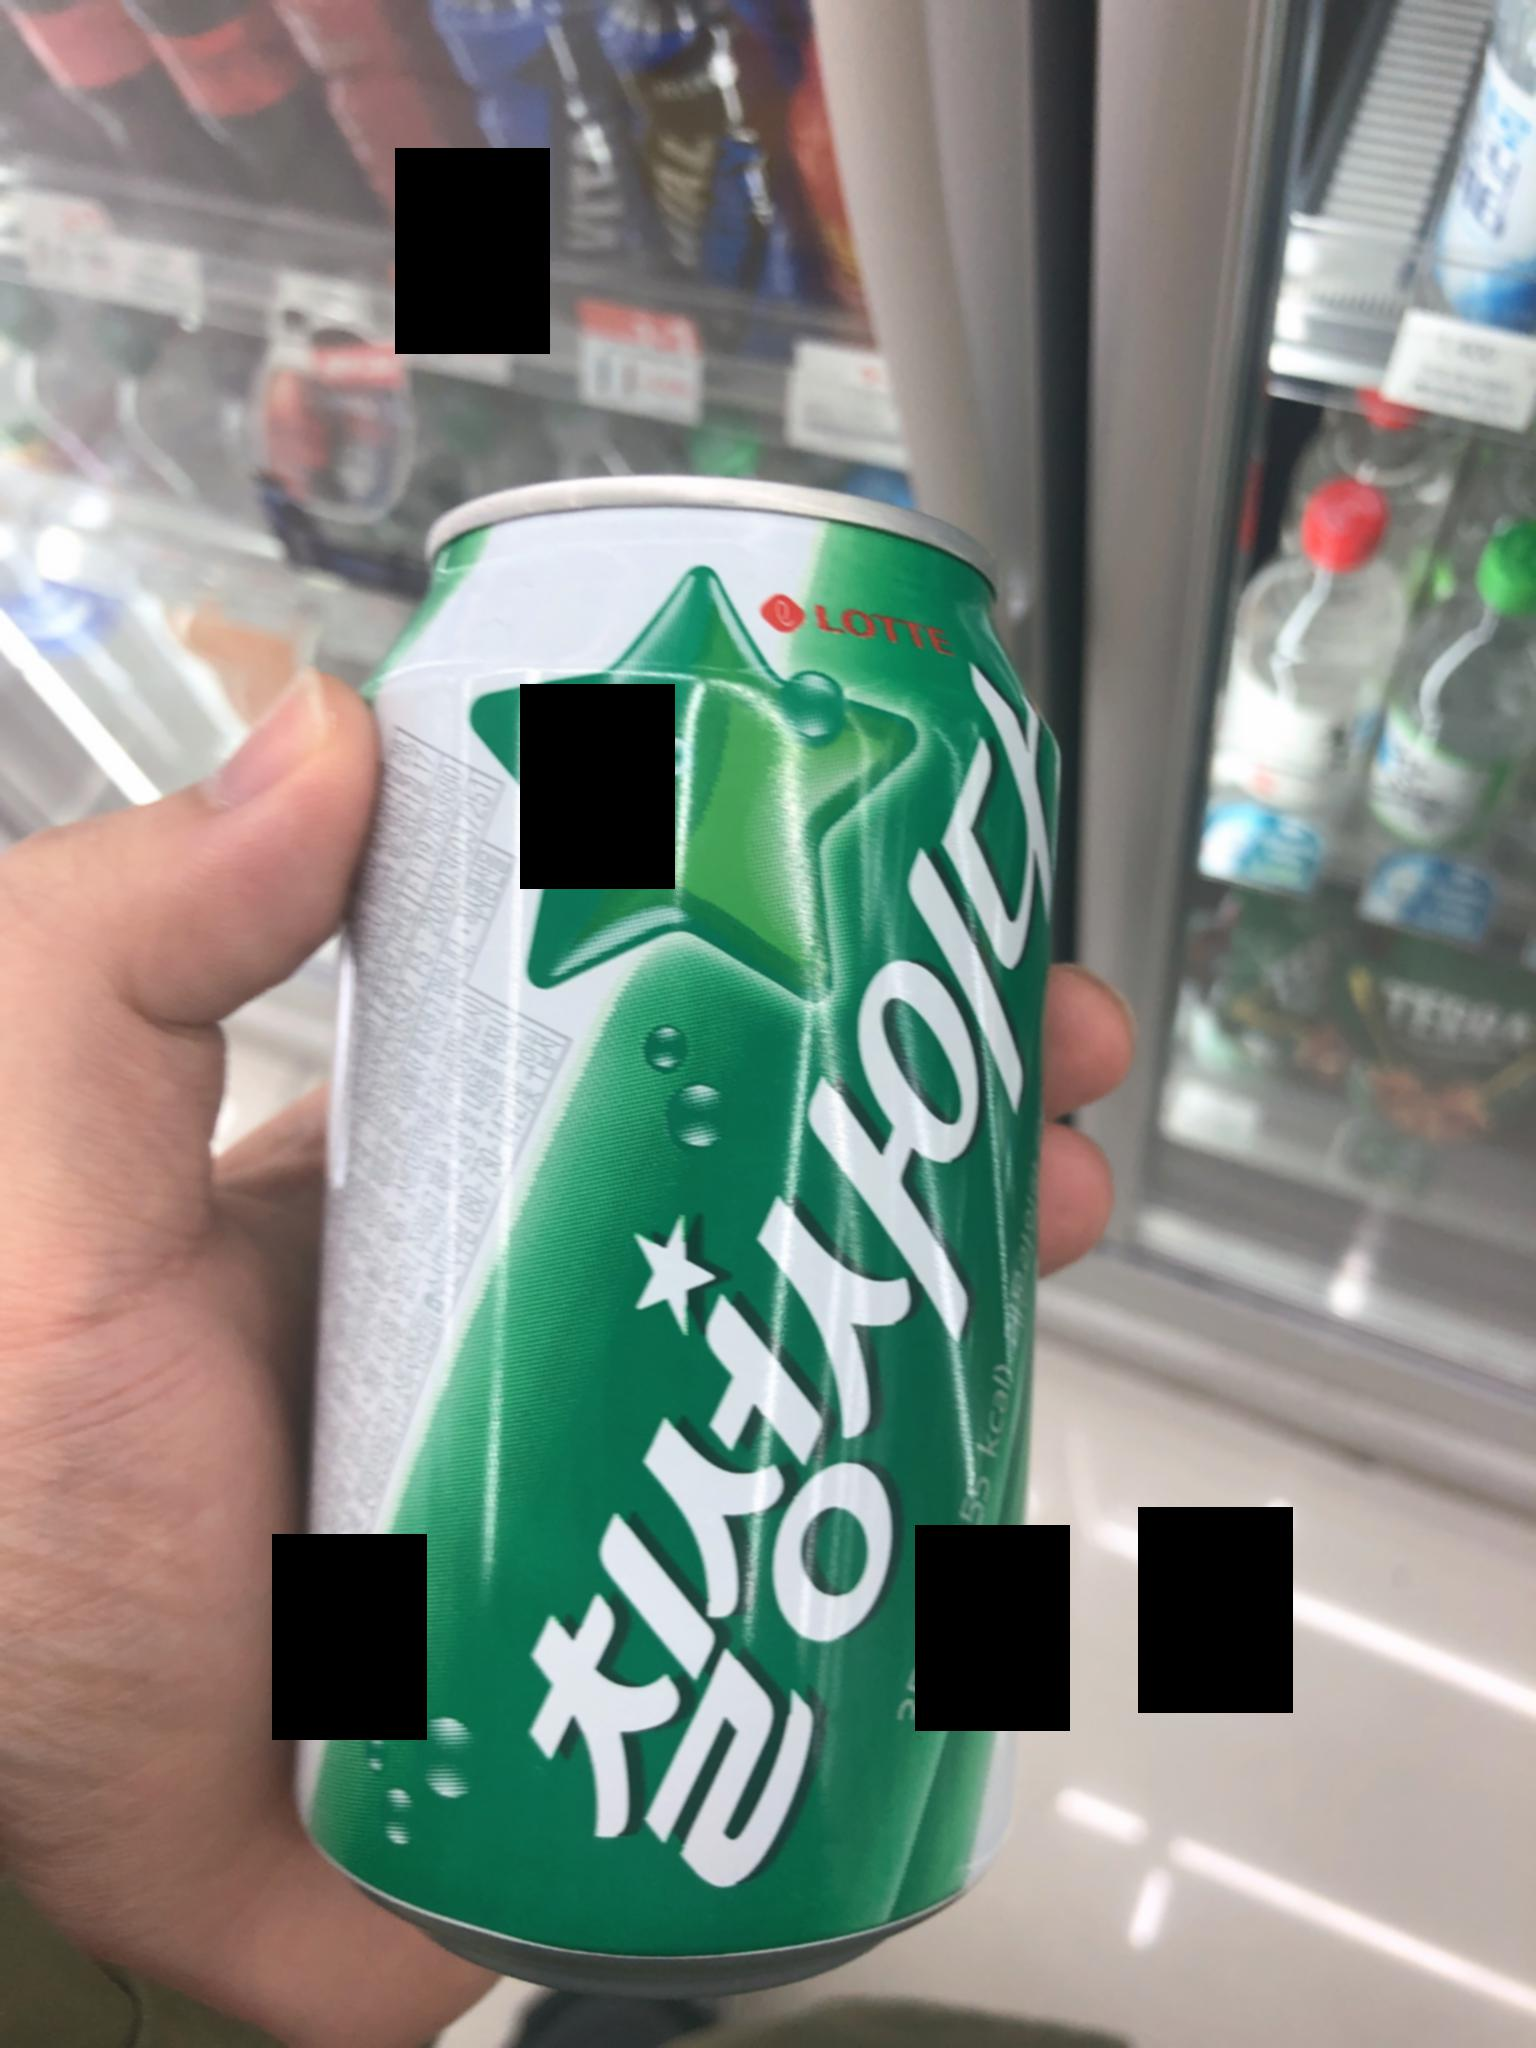chilsungcider: (316, 426, 1042, 2003)
